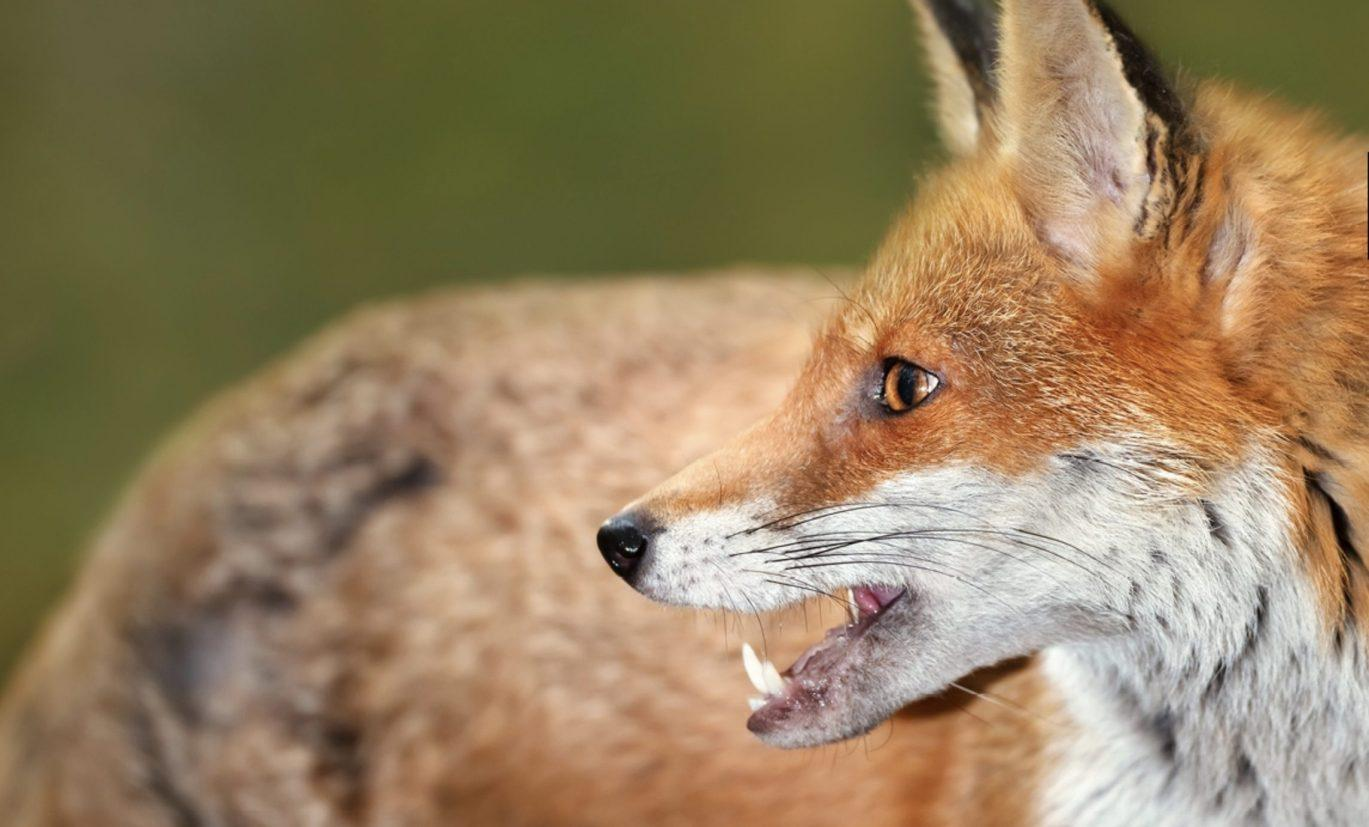fox: (232, 2, 1369, 827)
